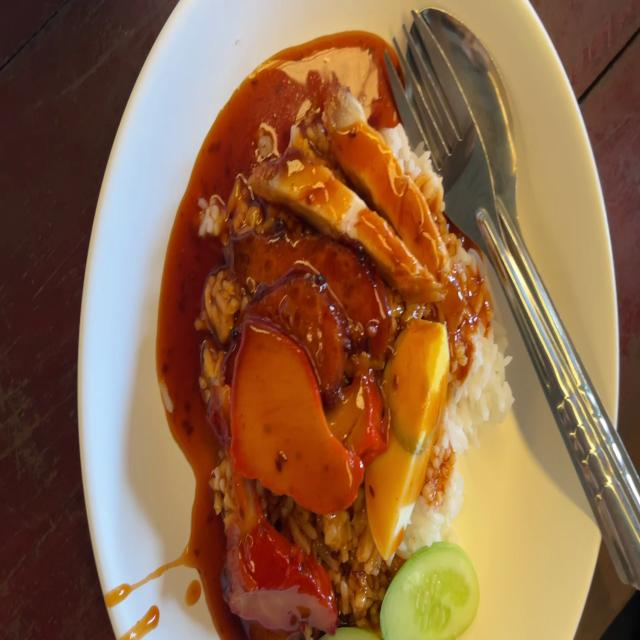red_pork_and_crispy_pork: (370, 312, 451, 564)
stir_fried_basil: (233, 210, 381, 364)
